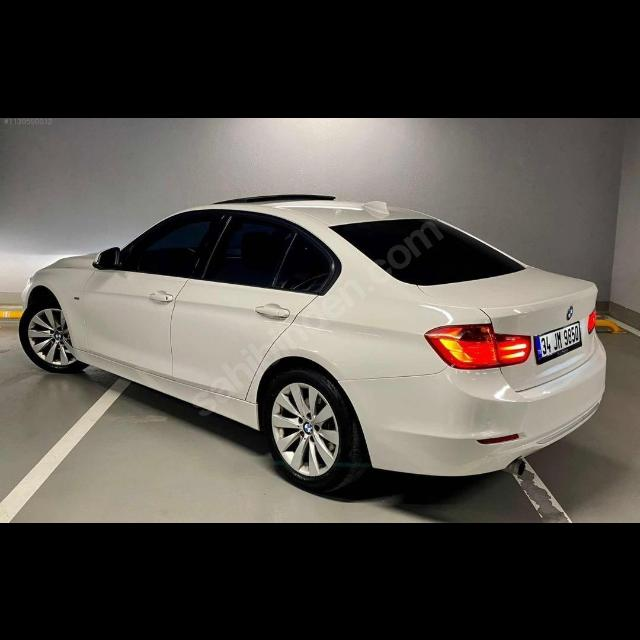Plaka: (538, 318, 580, 359)
